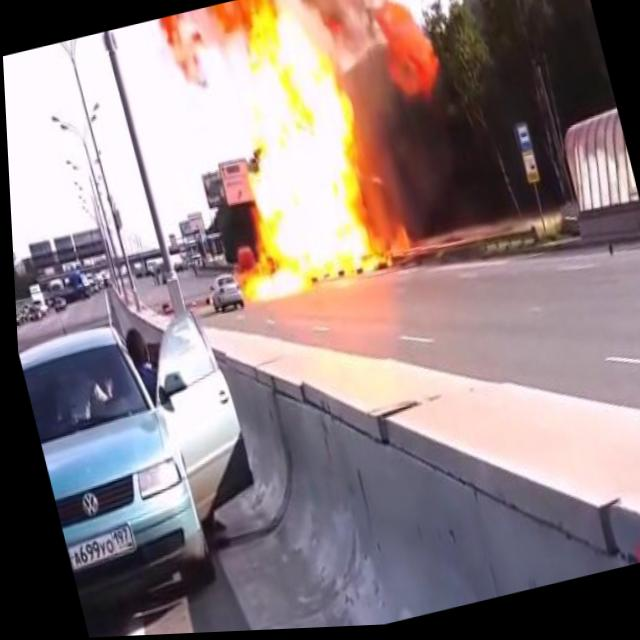fire: (172, 0, 397, 312)
